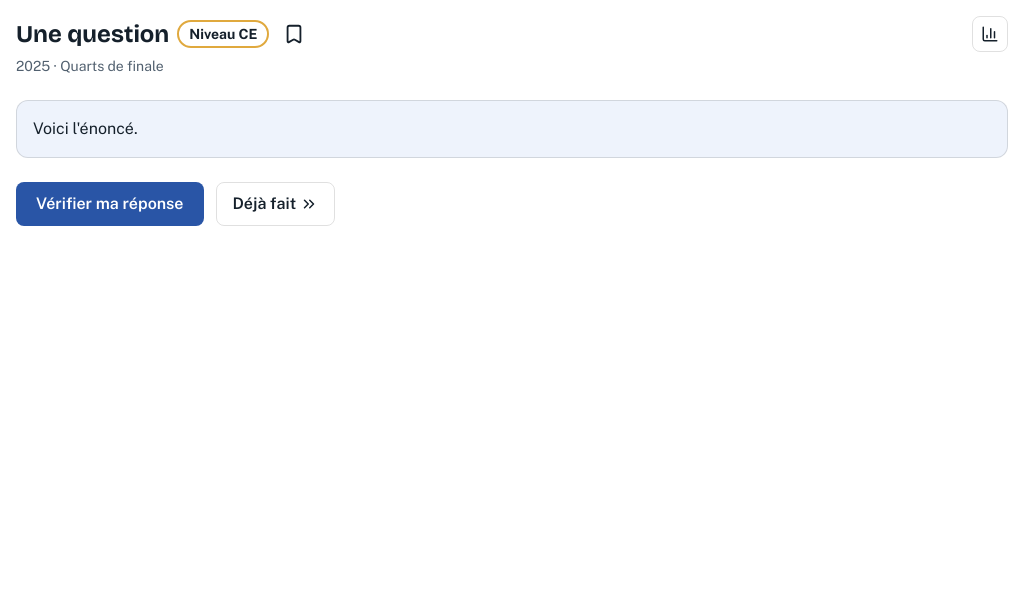
Test case: TrainingQuestionPage — edge cases › an answer with no value shows a fallback link to the correction's own figure instead
Expected: the text "Voici l'énoncé." is shown, [33,119,138,138]
Click the button "Vérifier ma réponse": x=110, y=204 [16,182,204,226]
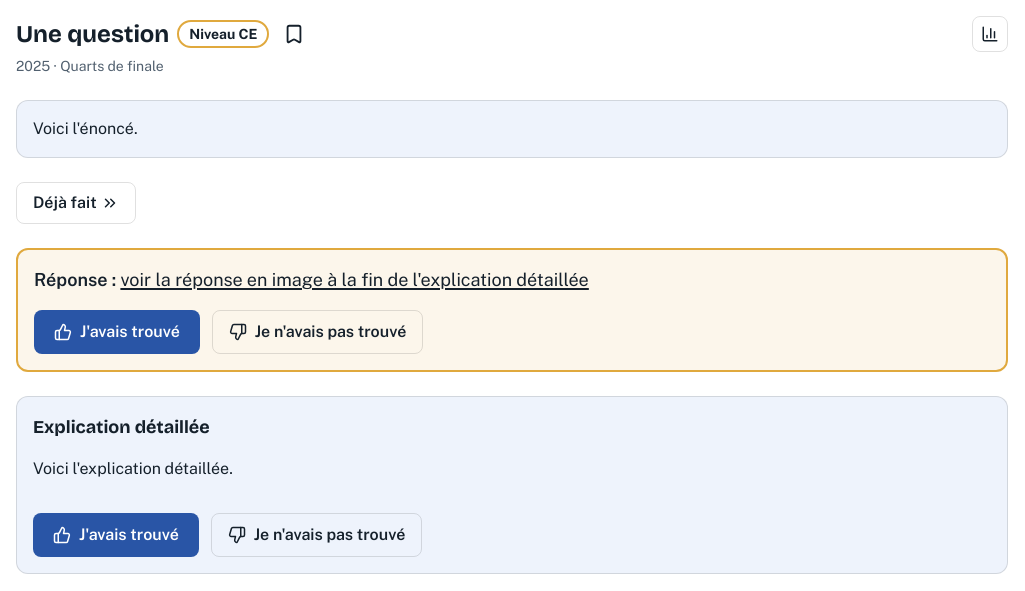
Result: the link "voir la réponse en image à la fin de l'explication détaillée" is shown at [120,269,589,290]
